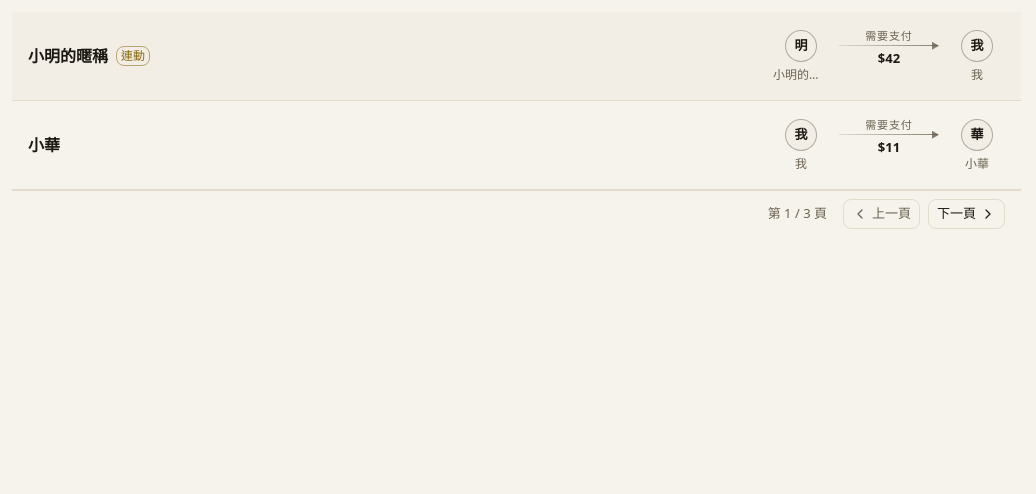
Scenario: CounterpartyList › toggles the inline detail from the primary row button
The image size is (1036, 494).
Click the button "小明的暱稱 連動 明 小明的暱稱 需要支付 $42 我 我". click: (68, 56)
box: [12,12,1021,100]
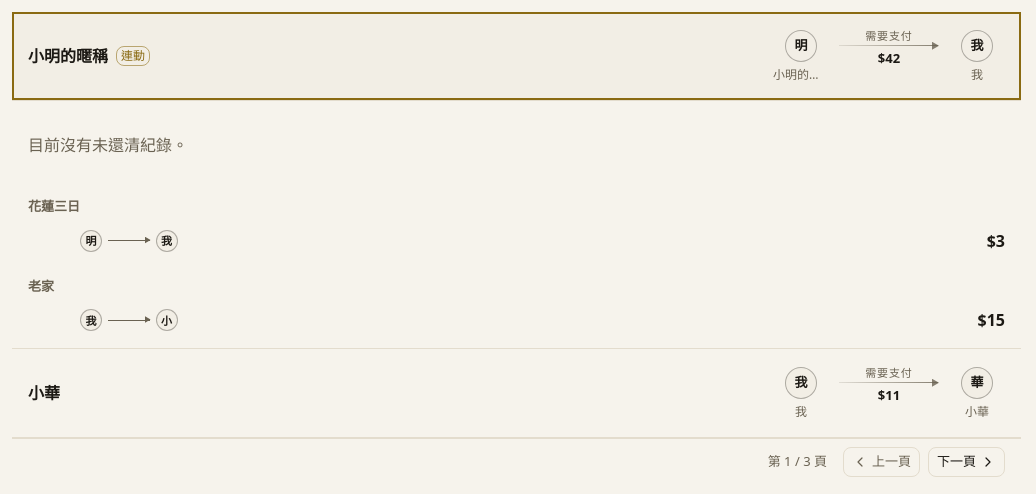
Now the heading "花蓮三日" is shown, box [28,197,80,215]
Click the button "小明的暱稱 連動 明 小明的暱稱 需要支付 $42 我 我". click: (68, 56)
box: [12,12,1021,100]
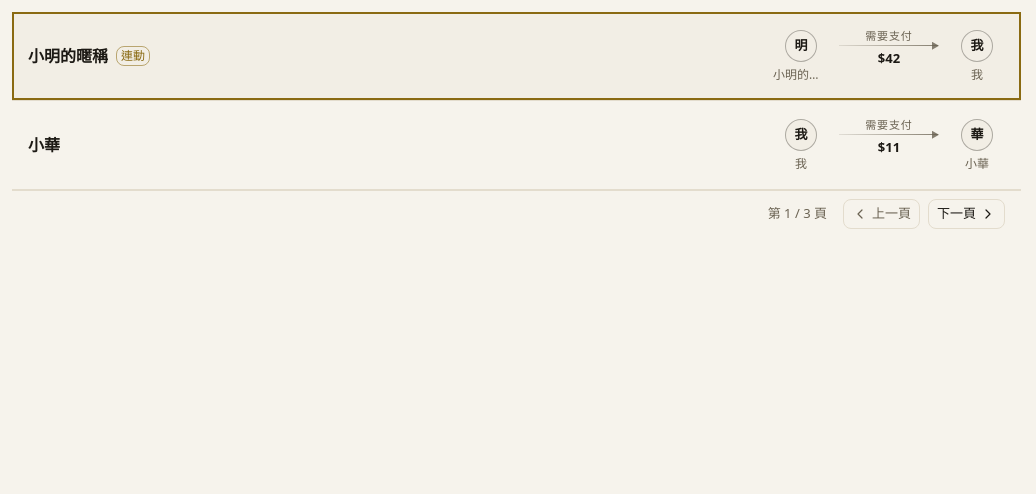
Now the heading "花蓮三日" is gone
